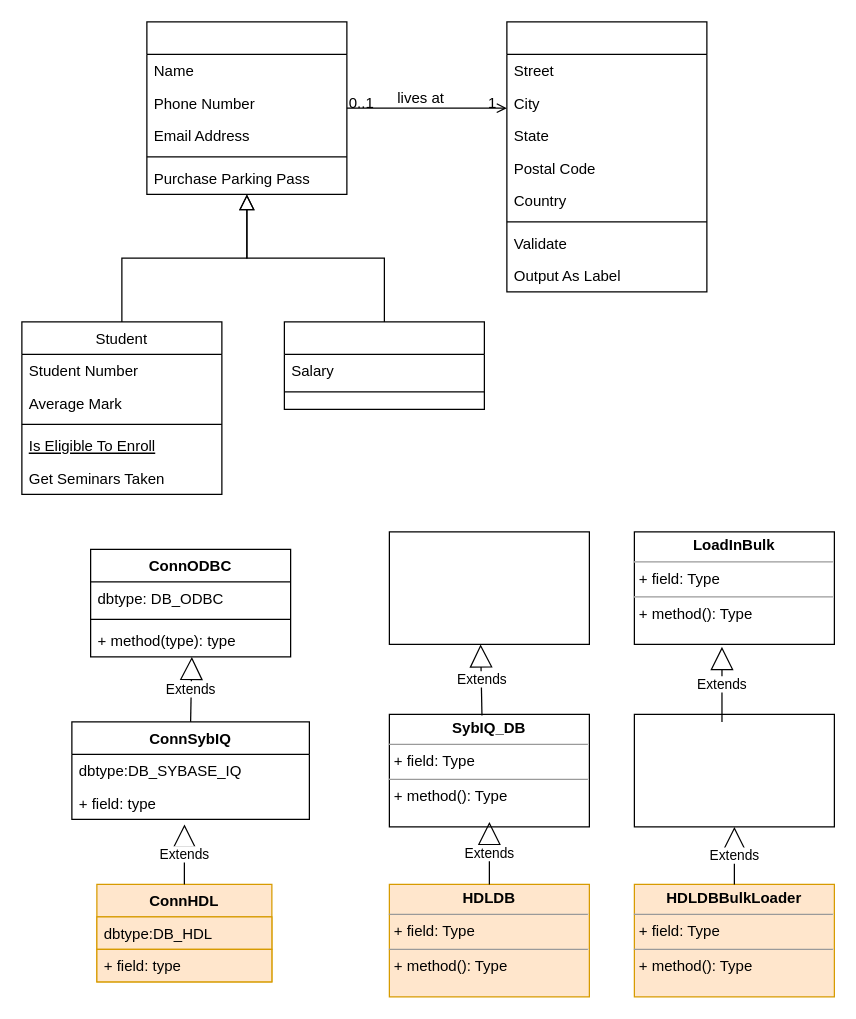
The diagram is 856 pixels wide and 1019 high, and some of its shapes have lost their labels. Here are the shapes that lost their labels. From the top down, the box of each, then its label:
(146, 21, 347, 194): Person
(506, 21, 707, 292): Address
(283, 321, 484, 409): Professor
(388, 531, 589, 644): OdbcDB + field: Type + method(): Type
(633, 713, 834, 827): SybaseIQBulkLoader + field: Type + method(): Type
